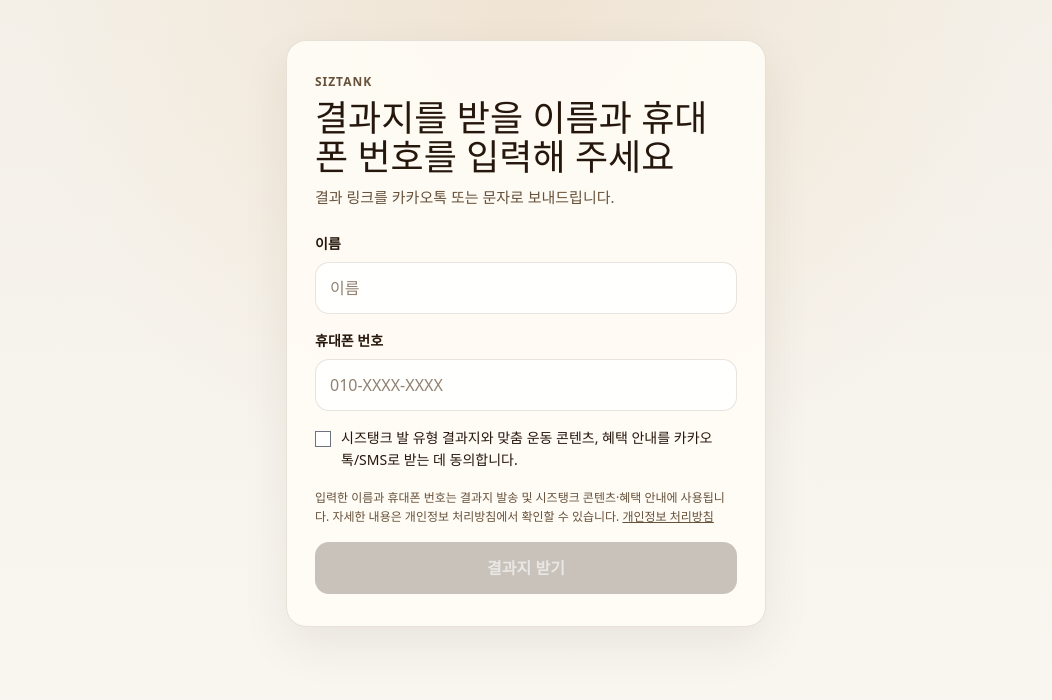
Test: ContactForm › 서버 검증 오류는 inline으로 표시한다
Type "홍길동" into the field with placeholder "이름" at (526, 288), box top-left (315, 262), bottom-right (737, 314)
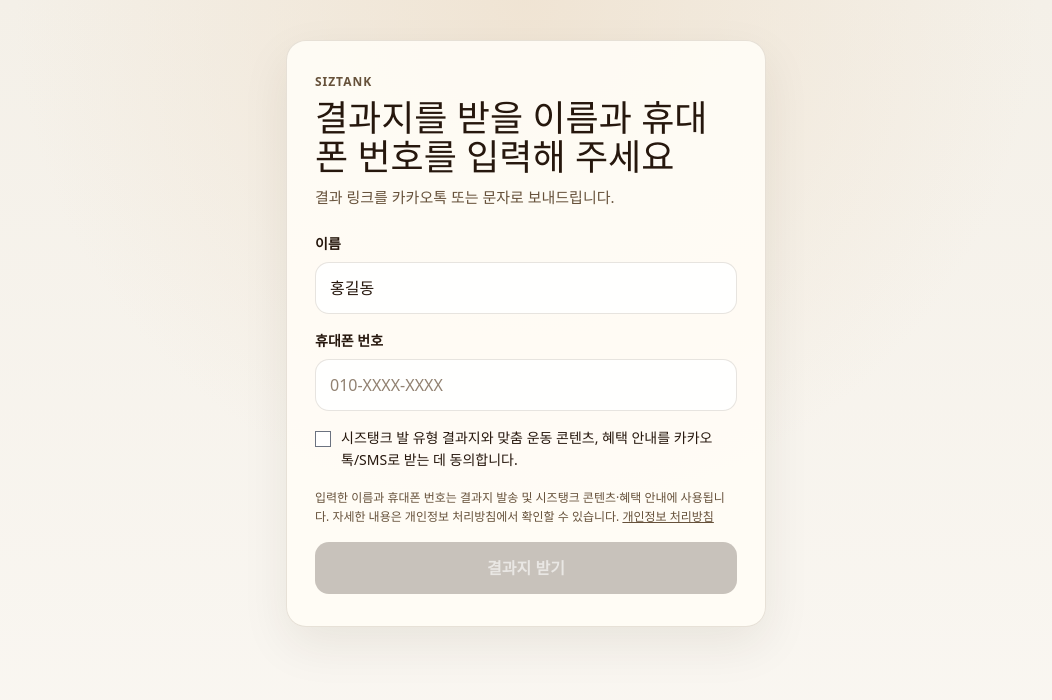
Type "01012345678" into the field with placeholder "010-XXXX-XXXX" at (526, 385), box top-left (315, 359), bottom-right (737, 411)
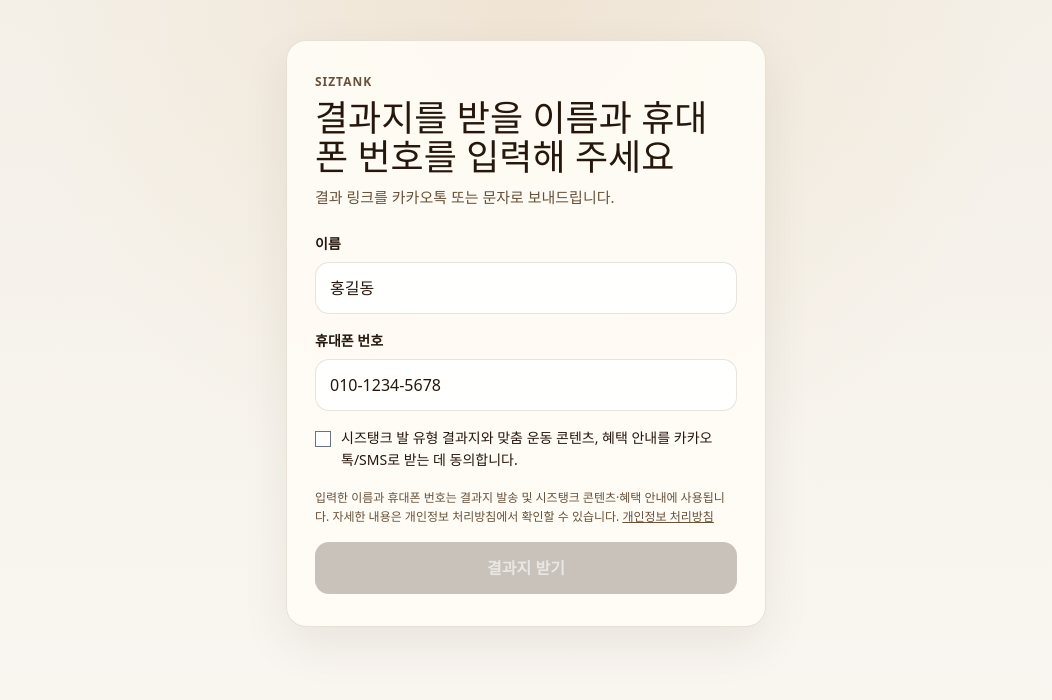
Click the checkbox at (323, 439), box top-left (315, 431), bottom-right (331, 447)
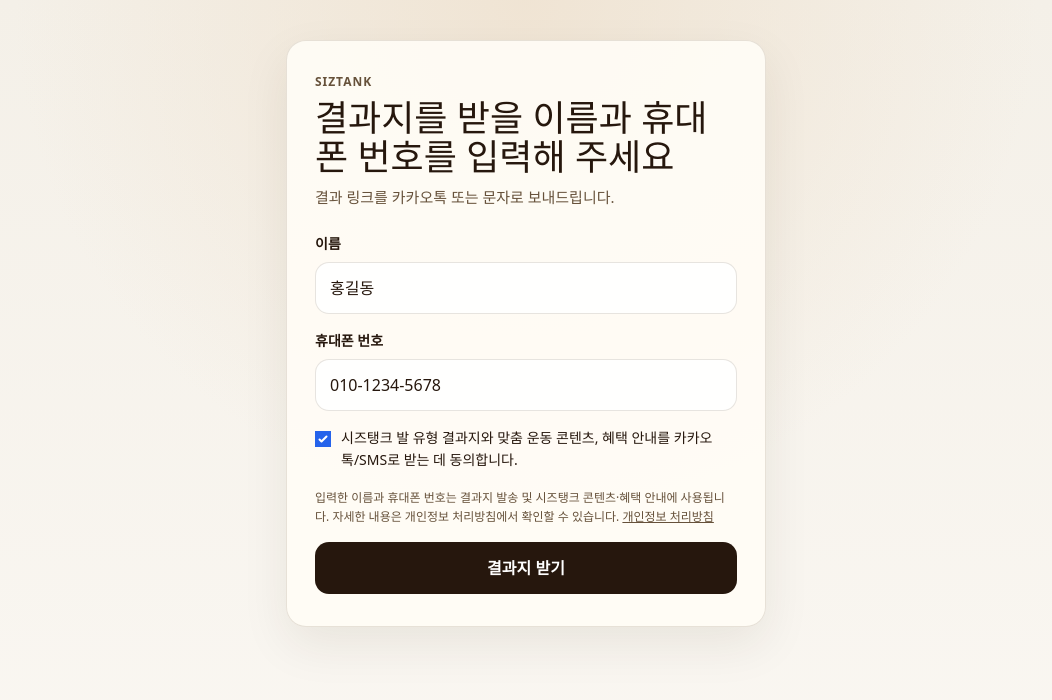
Click the button "결과지 받기" at (526, 568), box top-left (315, 542), bottom-right (737, 594)
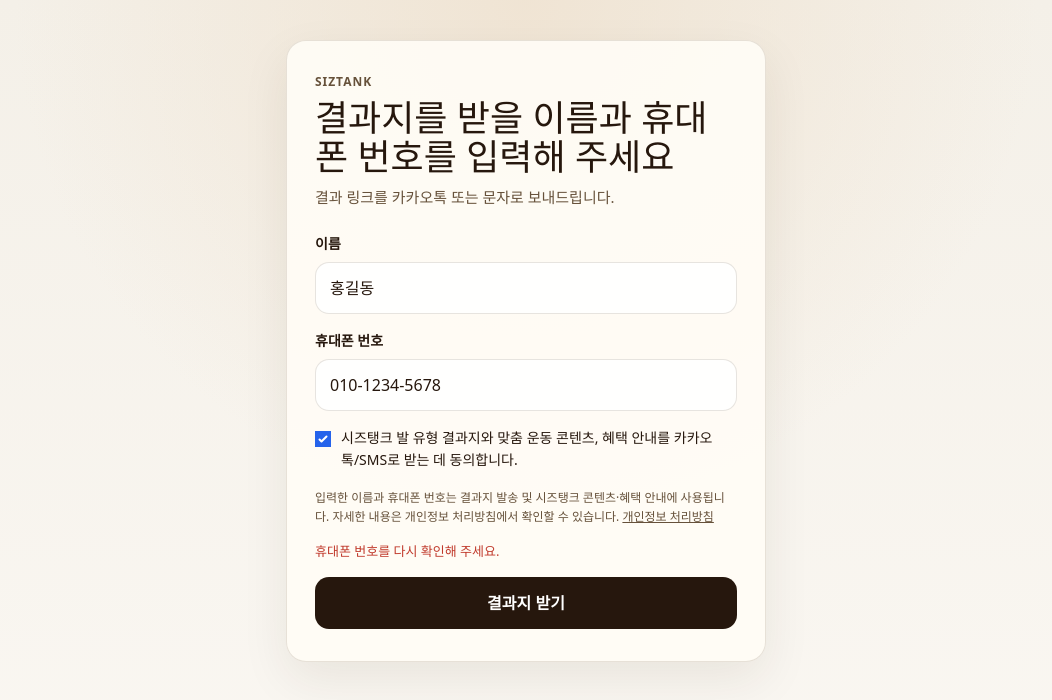
expect the text "휴대폰 번호를 다시 확인해 주세요." is shown: met, box top-left (315, 542), bottom-right (500, 560)
